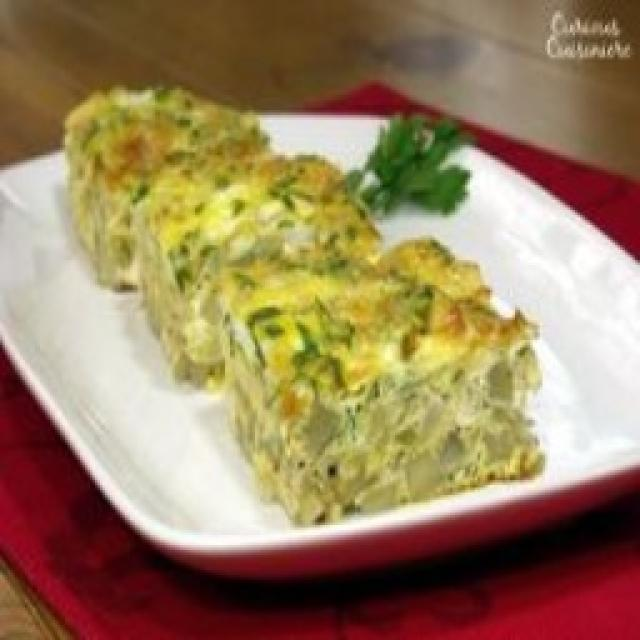Couscous: (68, 88, 268, 288)
